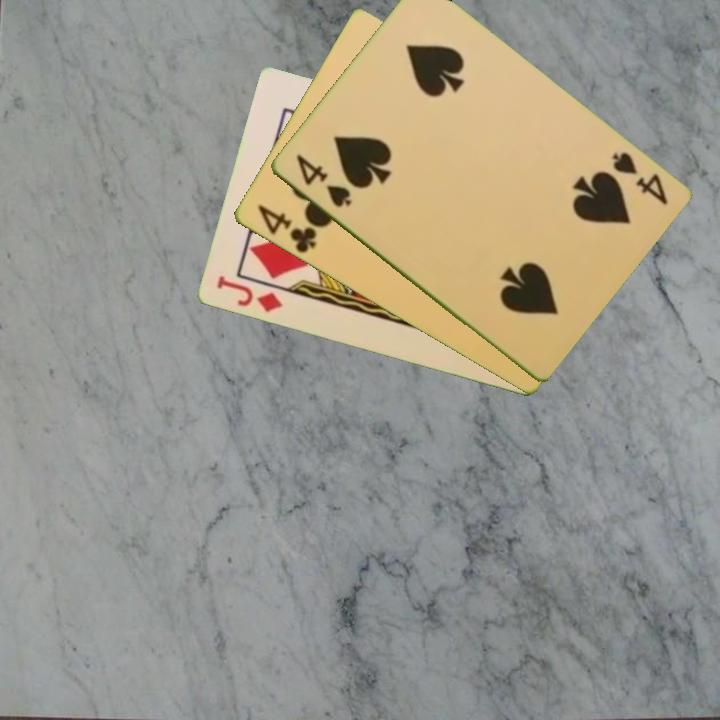4c: (253, 201, 319, 257)
4s: (291, 150, 354, 211), (607, 148, 671, 208)
Jd: (212, 272, 285, 315)
